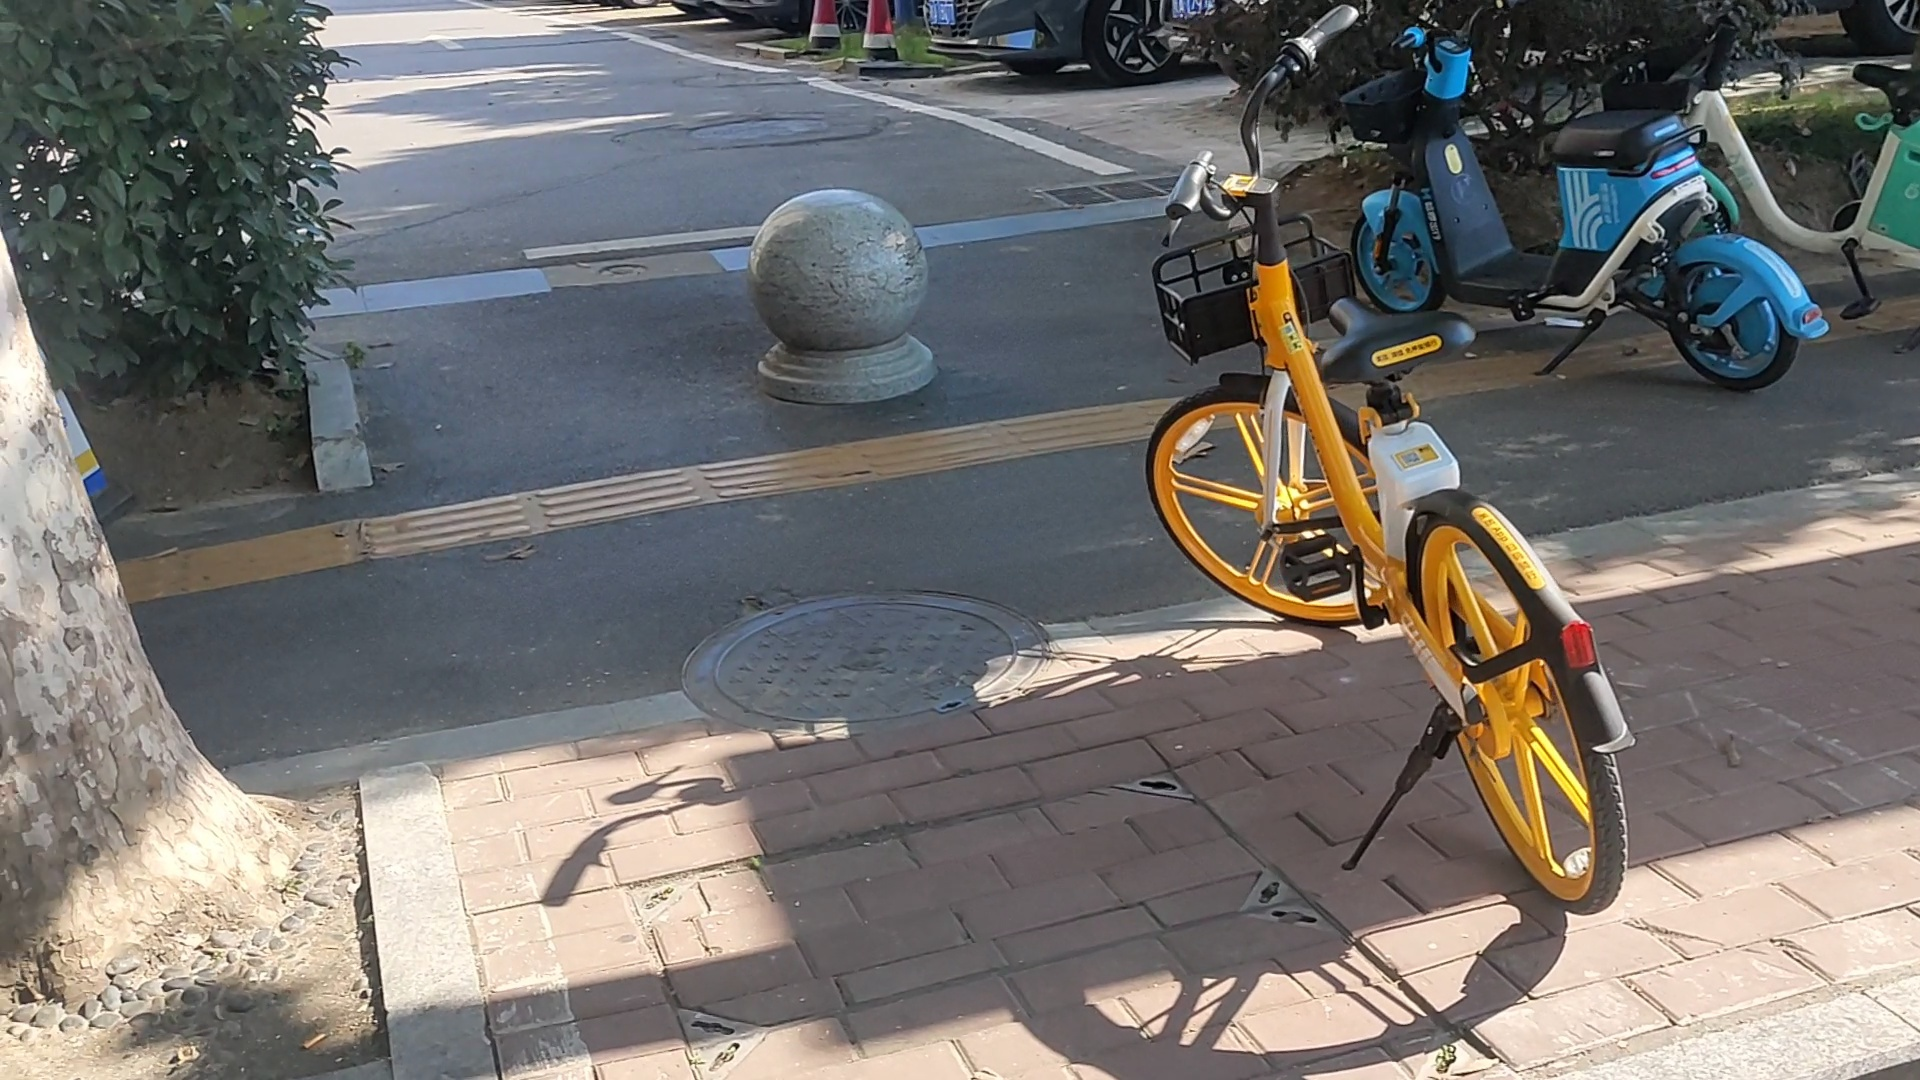non-vehicle: (1126, 0, 1623, 939), (1323, 1, 1825, 386), (1660, 3, 1917, 375)
